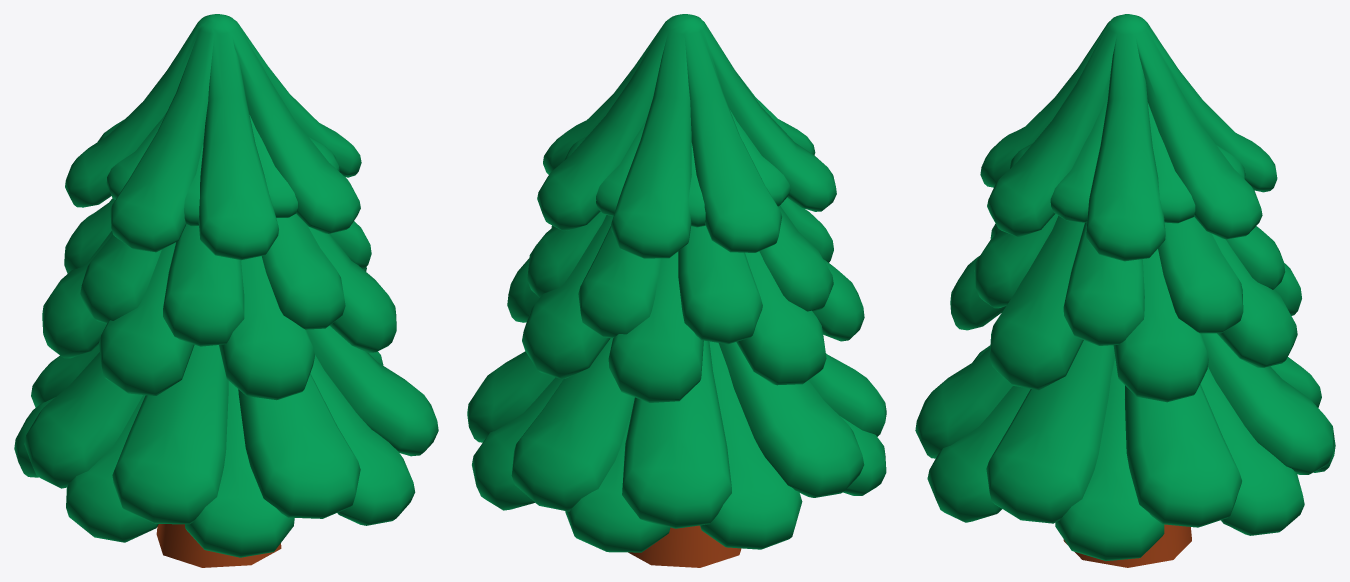
File: elka.fbx
3 renders of one model, left to right at view 1: azimuth 30°, elevation 25°; view 2: azimuth 150°, elevation 25°; view 3: azimuth 270°, elevation 25°, orthographic.
Visible parts, largest first — view 1: Cube.008, Cube.004, Cube.001, Cylinder.001; view 2: Cube.008, Cube.004, Cube.001, Cylinder.001; view 3: Cube.008, Cube.004, Cube.001, Cylinder.001.
Boxes of the visible parts, left/top/right/bottom form: Cube.008: left=14, top=325, right=438, bottom=557; Cube.004: left=42, top=198, right=396, bottom=400; Cube.001: left=65, top=14, right=361, bottom=260; Cylinder.001: left=156, top=524, right=281, bottom=567; Cube.008: left=467, top=338, right=886, bottom=552; Cube.004: left=507, top=197, right=864, bottom=402; Cube.001: left=537, top=14, right=836, bottom=258; Cylinder.001: left=628, top=525, right=741, bottom=567; Cube.008: left=915, top=333, right=1335, bottom=560; Cube.004: left=950, top=214, right=1301, bottom=402; Cube.001: left=980, top=14, right=1277, bottom=261; Cylinder.001: left=1063, top=524, right=1191, bottom=567.
Bounding box in the file's own units: 465 × 637 × 464.
